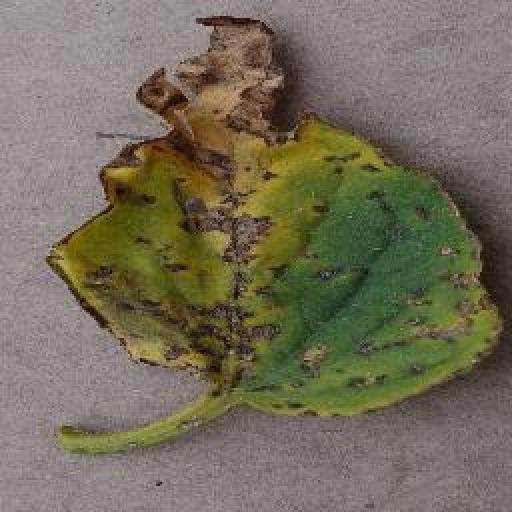Bacterial Spot: (41, 8, 512, 421)
